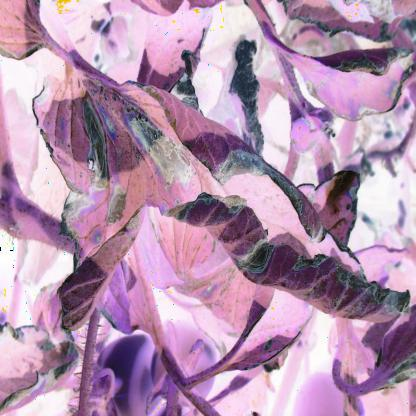Tomato leaf late blight: (31, 26, 410, 346)
